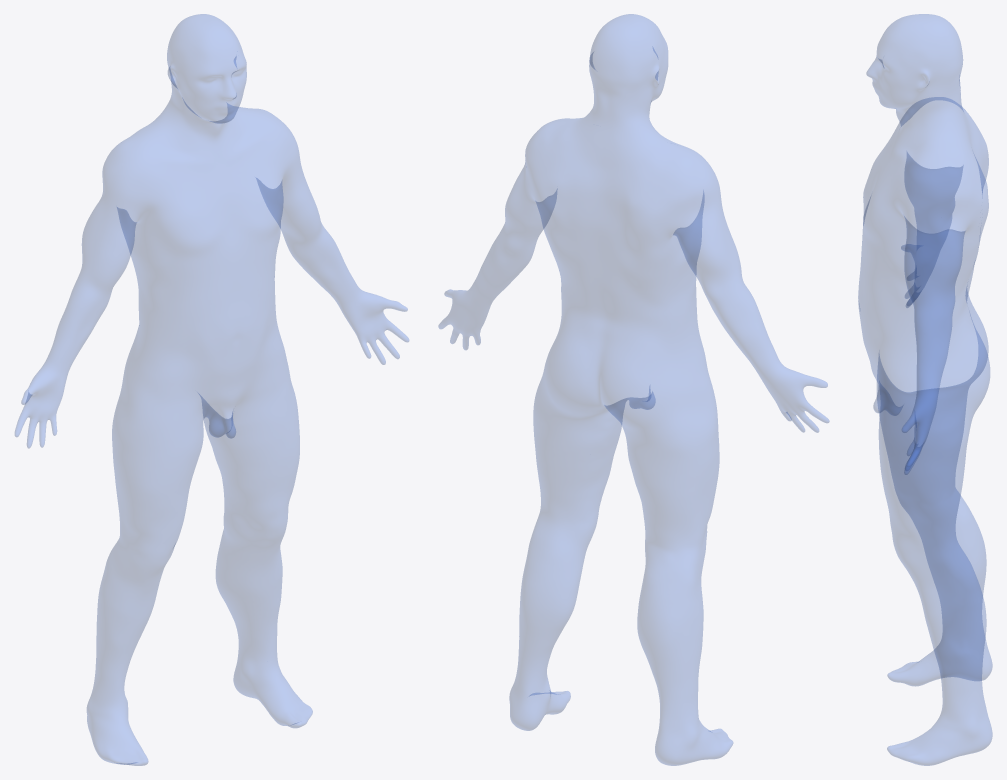
File: skin-meshopt.glb
3 renders of one model, left to right at view 1: azimuth 30°, elevation 25°; view 2: azimuth 150°, elevation 25°; view 3: azimuth 270°, elevation 25°, orthographic. The views are drawn at different scales.
Visible parts, largest first — view 1: VH_M_skin; view 2: VH_M_skin; view 3: VH_M_skin.
Part boxes in pixels (x1=…): VH_M_skin: x1=15, y1=14, x2=408, y2=765; VH_M_skin: x1=438, y1=14, x2=829, y2=765; VH_M_skin: x1=858, y1=14, x2=992, y2=765.
Bounding box in the file's own units: 1.05 × 1.83 × 0.3162.
